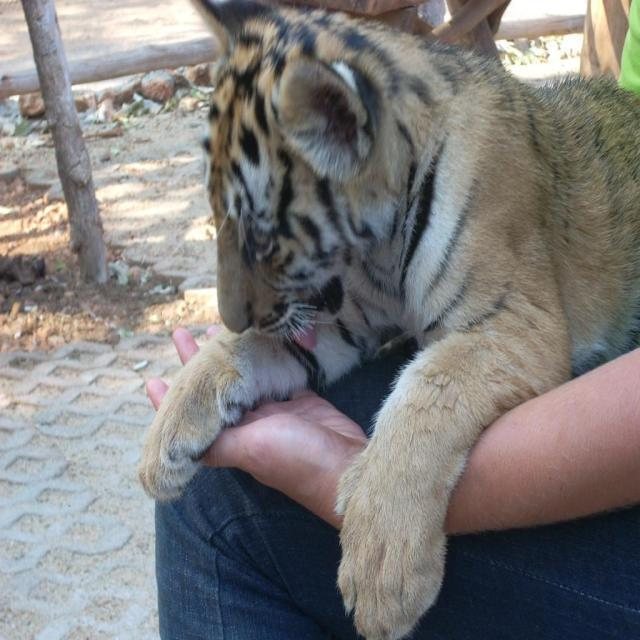tiger: (136, 0, 639, 638)
